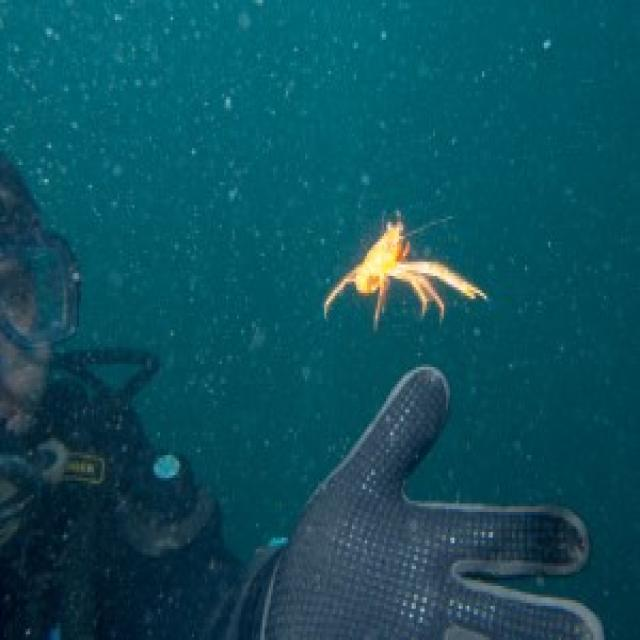lobsters: (309, 171, 575, 416)
